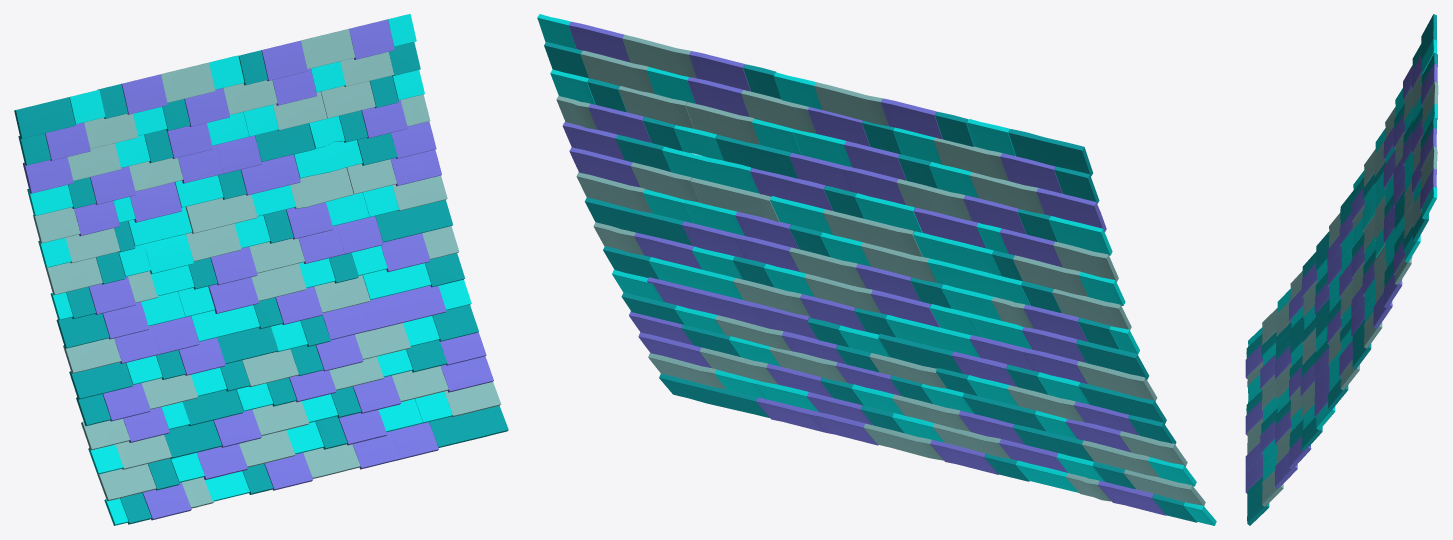
File: SM_roof_3Floor_02.fbx
3 views of the same model, side by side, from view 1: azimuth 30°, elevation 25°; view 2: azimuth 150°, elevation 25°; view 3: azimuth 270°, elevation 25° (orthographic). The views are drawn at different scales.
Visible parts, largest first — view 1: SM_roof_3Floor_02; view 2: SM_roof_3Floor_02; view 3: SM_roof_3Floor_02.
Boxes of the visible parts, box(x1,y1,x2,y2) form: SM_roof_3Floor_02: box(14, 14, 508, 525); SM_roof_3Floor_02: box(537, 14, 1216, 525); SM_roof_3Floor_02: box(1245, 14, 1438, 525).
Bounding box in the file's own units: 7.1 × 5.97 × 3.16.
